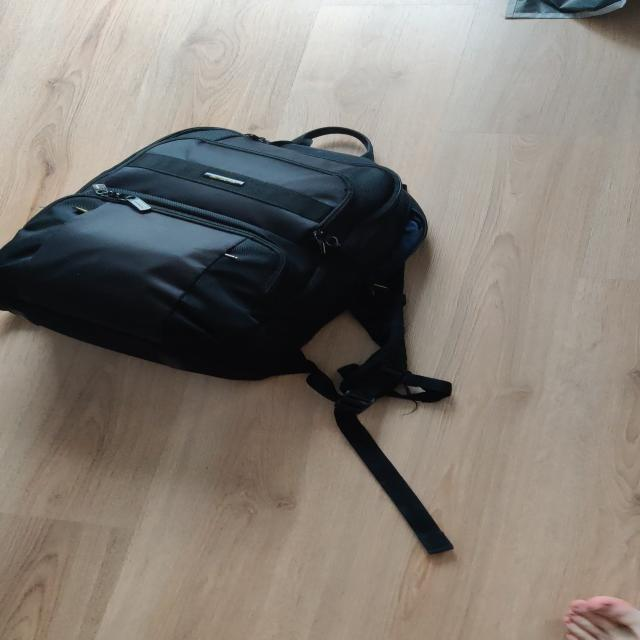backpack: (0, 113, 447, 391)
